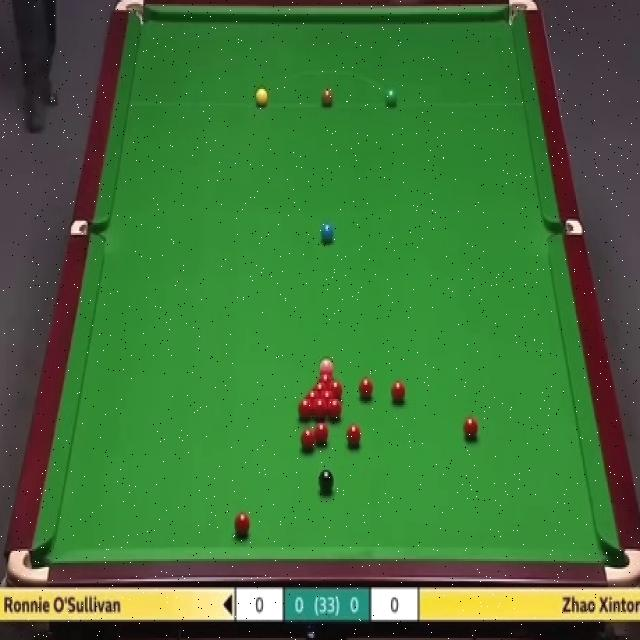black-ball: (317, 468, 335, 498)
blue-ball: (320, 219, 335, 243)
brown-ball: (321, 88, 334, 109)
green-ball: (386, 87, 400, 109)
pink-ball: (319, 356, 334, 373)
red-ball: (463, 415, 480, 443), (345, 422, 362, 449), (358, 376, 375, 402), (391, 380, 407, 406), (326, 474, 343, 498), (234, 513, 250, 537), (300, 429, 315, 454), (297, 398, 313, 421), (314, 422, 328, 448), (328, 398, 342, 422), (313, 398, 327, 420), (329, 381, 342, 397), (319, 389, 337, 399), (311, 382, 329, 391), (305, 390, 320, 400), (318, 373, 334, 381)
yellow-ball: (255, 86, 268, 108)
